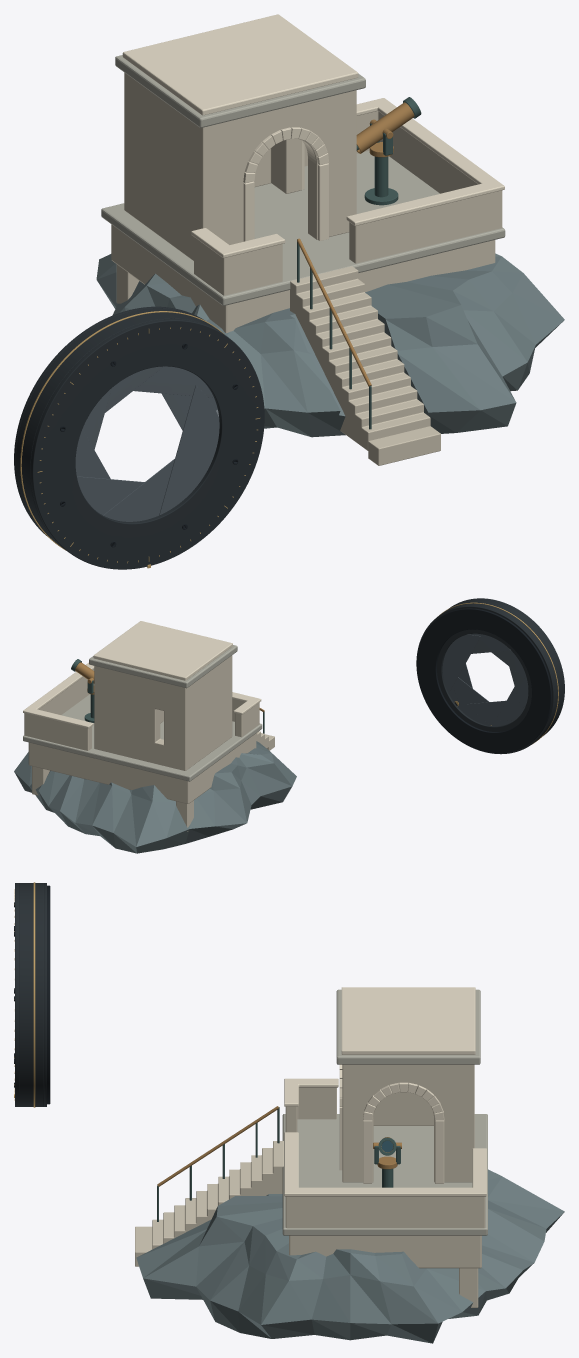
Rendered from scales-scene.glb.
The picture shows the model from 3 angles, top to bottom: view 1: azimuth 30°, elevation 25°; view 2: azimuth 150°, elevation 25°; view 3: azimuth 270°, elevation 25°; orthographic projection. The views are drawn at different scales.
Parts seen in each view (by area): view 1: limen / Rock / single faceted outcrop, iris / Cover_front_bezel, limen / Hall / carved monolithic masonry, limen / Roof / inset mineral cap, limen / Access / twelve continuous stone steps, limen / Terrace / continuous slab, limen / Parapet / east continuous corner, limen / Foundation / embedded load bearing plinth, iris / Housing_outer_barrel, limen / Coping / east continuous corner, iris / Blade_07, limen / Parapet / west continuous corner (+15 smaller); view 2: limen / Rock / single faceted outcrop, limen / Hall / carved monolithic masonry, iris / Foot_rear_rim, limen / Roof / inset mineral cap, limen / Foundation / embedded load bearing plinth, limen / Terrace / continuous slab, iris / Housing_lower_flange, limen / Parapet / east continuous corner, iris / Housing_outer_barrel, limen / Roof / deep floating shadow eave, iris / Blade_00, limen / Coping / east continuous corner (+9 smaller); view 3: limen / Rock / single faceted outcrop, limen / Hall / carved monolithic masonry, limen / Roof / inset mineral cap, limen / Terrace / continuous slab, limen / Parapet / east continuous corner, iris / Housing_outer_barrel, limen / Foundation / embedded load bearing plinth, limen / Access / twelve continuous stone steps, limen / Coping / east continuous corner, limen / Roof / deep floating shadow eave, limen / Parapet / west continuous corner, iris / Cover_front_bezel (+7 smaller).
Part boxes in pixels (x1,y1,x2,y2): limen / Rock / single faceted outcrop: (96,253,564,437); iris / Cover_front_bezel: (30,318,264,569); limen / Hall / carved monolithic masonry: (124,72,356,260); limen / Roof / inset mineral cap: (122,14,358,115); limen / Access / twelve continuous stone steps: (290,266,430,450); limen / Terrace / continuous slab: (101,150,505,305); limen / Parapet / east continuous corner: (304,111,502,263); limen / Foundation / embedded load bearing plinth: (111,224,495,333); iris / Housing_outer_barrel: (16,308,221,548); limen / Coping / east continuous corner: (346,98,504,225); iris / Blade_07: (159,385,219,515); limen / Parapet / west continuous corner: (194,237,282,295); limen / Rock / single faceted outcrop: (14,741,296,853); limen / Hall / carved monolithic masonry: (94,655,232,770); iris / Foot_rear_rim: (417,608,551,753); limen / Roof / inset mineral cap: (93,621,232,680); limen / Foundation / embedded load bearing plinth: (28,733,256,803); limen / Terrace / continuous slab: (23,694,262,781); iris / Housing_lower_flange: (416,606,554,754); limen / Parapet / east continuous corner: (24,669,94,750); iris / Housing_outer_barrel: (442,599,563,741); limen / Roof / deep floating shadow eave: (89,645,237,688); iris / Blade_00: (442,634,480,692); limen / Coping / east continuous corner: (23,662,94,728); limen / Rock / single faceted outcrop: (136,1169,564,1343); limen / Hall / carved monolithic masonry: (342,1064,474,1182); limen / Roof / inset mineral cap: (341,987,475,1054); limen / Terrace / continuous slab: (282,1114,487,1235); limen / Parapet / east continuous corner: (285,1196,485,1228); iris / Housing_outer_barrel: (19,883,43,1106); limen / Foundation / embedded load bearing plinth: (289,1235,481,1268); limen / Access / twelve continuous stone steps: (152,1141,283,1249); limen / Coping / east continuous corner: (284,1132,486,1196); limen / Roof / deep floating shadow eave: (336,989,480,1064); limen / Parapet / west continuous corner: (285,1087,336,1132); iris / Cover_front_bezel: (15,883,19,1106).
Size of what is drawn, in the model's own units: 14.97 by 6.11 by 12.56.
